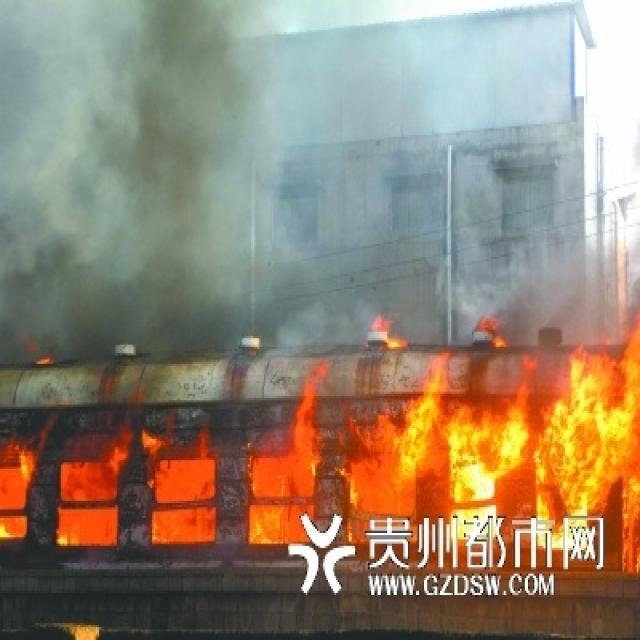Smoke: (0, 0, 640, 362)
